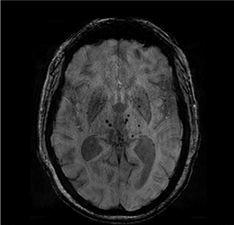Normal_Brain: (1, 5, 234, 225)
